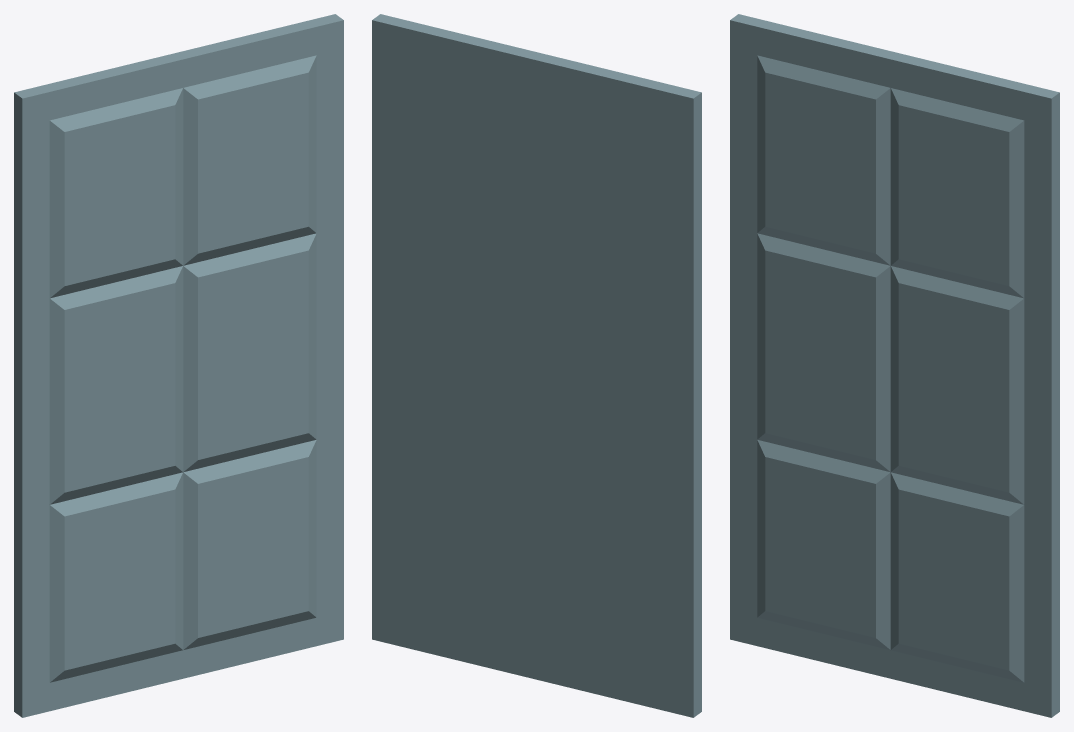
Rendered from door.glb.
3 renders of one model, left to right at view 1: azimuth 30°, elevation 25°; view 2: azimuth 150°, elevation 25°; view 3: azimuth 330°, elevation 25°, orthographic.
Visible parts, largest first — view 1: Plane.019; view 2: Plane.019; view 3: Plane.019.
Part boxes in pixels (bbox=[...]): Plane.019: bbox=[14, 14, 343, 717]; Plane.019: bbox=[372, 14, 701, 717]; Plane.019: bbox=[730, 14, 1059, 717].
Size of the model in its own units: 1.51 by 2.78 by 0.0967.
